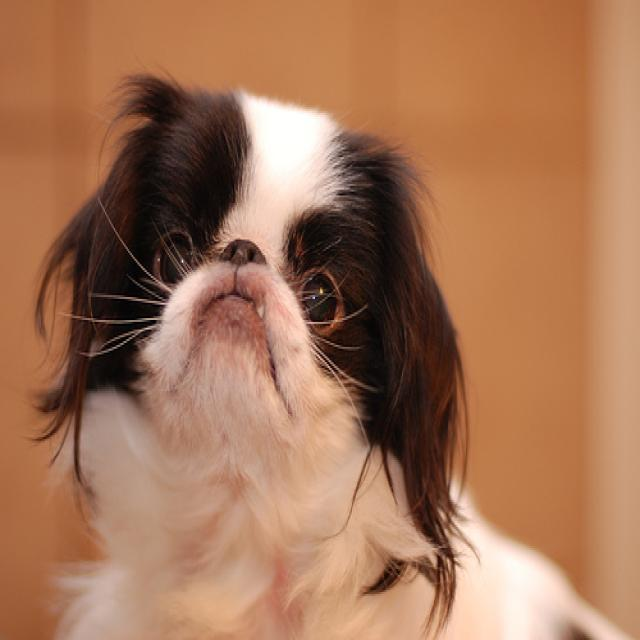dog-japanese_chin: (29, 69, 630, 636)
